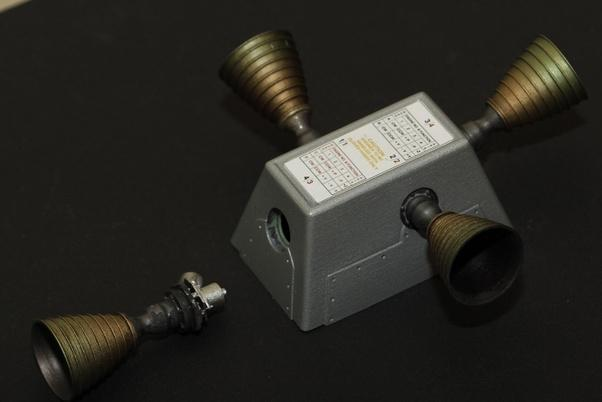thruster: (460, 29, 592, 168), (28, 298, 175, 400), (403, 193, 526, 312), (220, 26, 321, 139)
